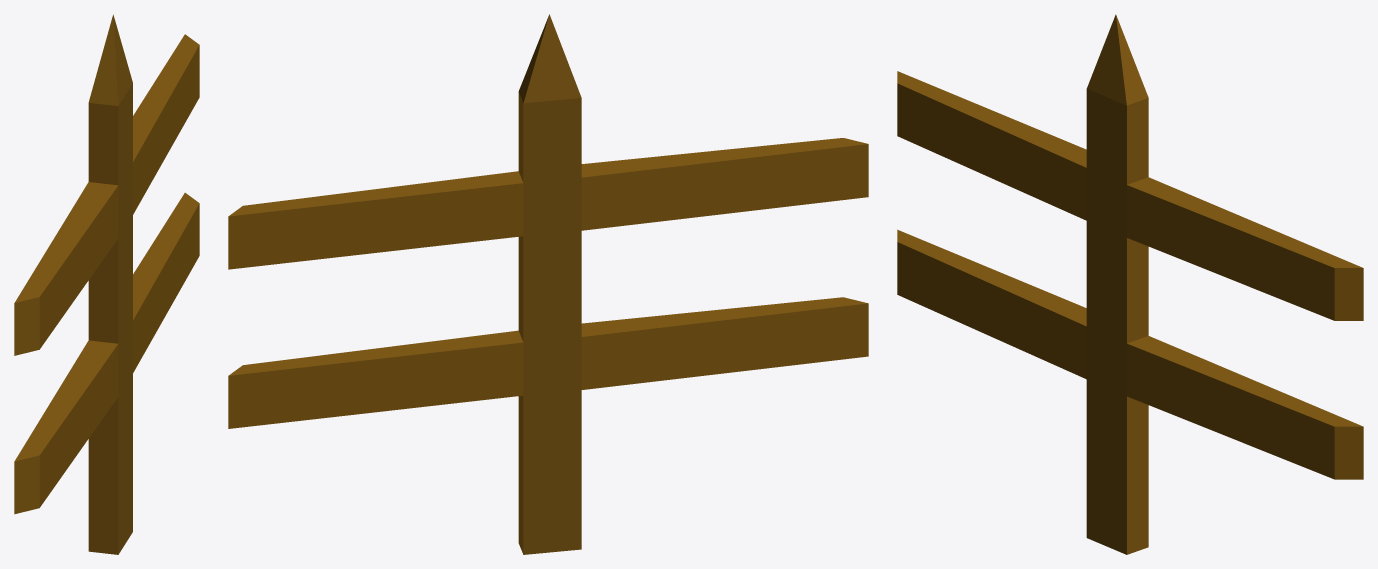
3 views of the same model, side by side, from view 1: azimuth 30°, elevation 25°; view 2: azimuth 150°, elevation 25°; view 3: azimuth 270°, elevation 25° (orthographic).
Bounding box in the file's own units: 128 × 160 × 128.
1 material, 1 textured.
